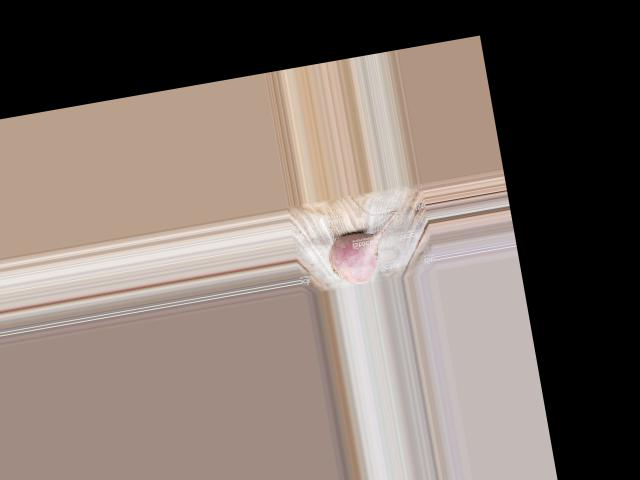beet: (323, 210, 408, 287)
